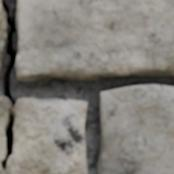brick: (17, 0, 173, 81), (98, 85, 173, 173), (0, 0, 6, 75)
broken_brick: (0, 98, 88, 173), (0, 96, 6, 160)
crack: (0, 2, 18, 171), (84, 136, 86, 149)
